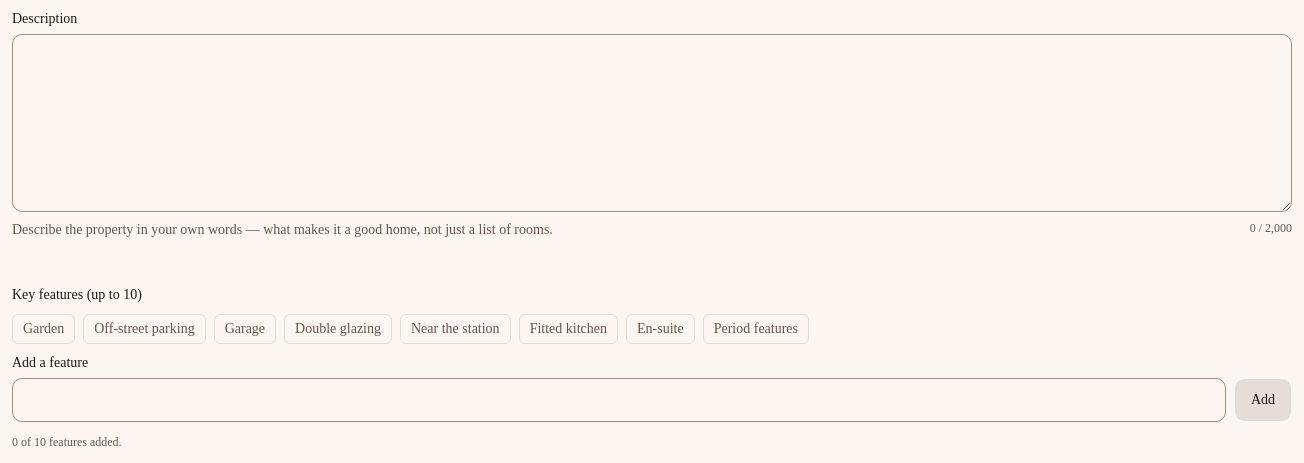
StepDescription › shows a comma-formatted character counter that updates as the user types
Expected: the text "0 / 2,000" is shown, [1250,220,1292,236]
Type "A lovely home." into the text box labelled "Description". click: (652, 123)
box: [12,34,1292,212]
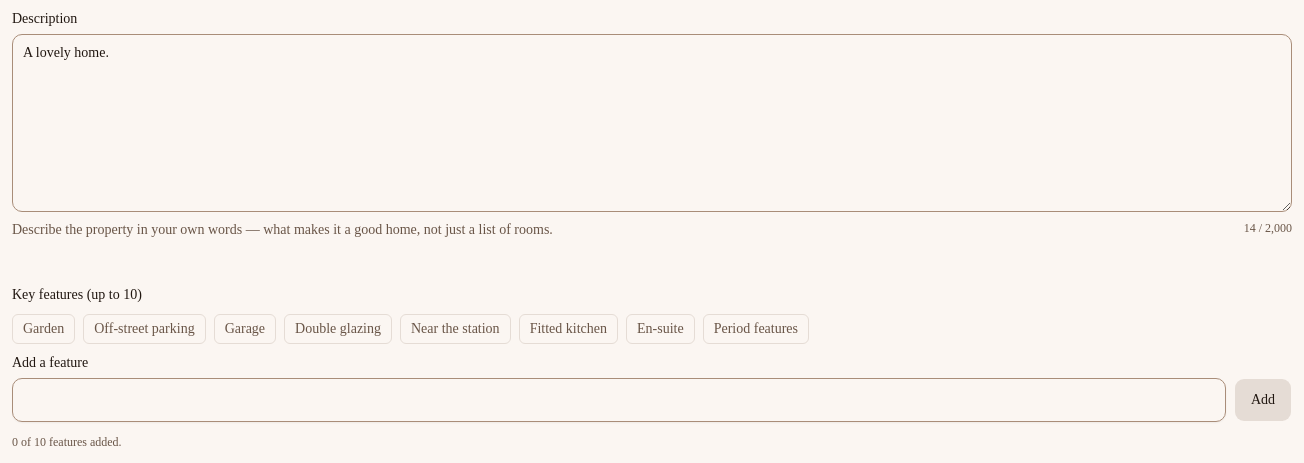
Now the text "14 / 2,000" is shown, box [1244,220,1292,236]
